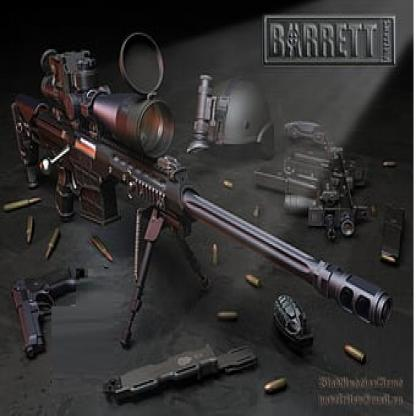Grenade: (273, 292, 315, 353)
Gun: (11, 32, 395, 350), (254, 114, 372, 242)
Pistol: (13, 264, 78, 361)
